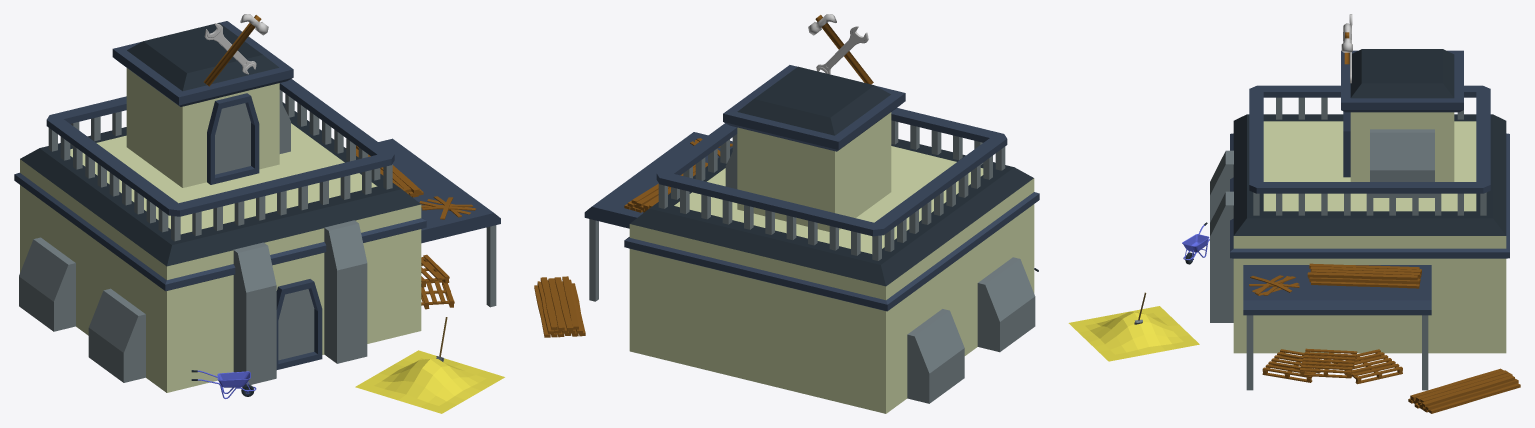
File: builder_house 1.fbx
3 views of the same model, side by side, from view 1: azimuth 30°, elevation 25°; view 2: azimuth 150°, elevation 25°; view 3: azimuth 270°, elevation 25° (orthographic). The views are drawn at different scales.
Visible parts, largest first — view 1: builder_house, sand, planks.001, palette, wheelbarrow; view 2: builder_house, planks.002, planks.001; view 3: builder_house, sand, palette, planks.001, planks.002, wheelbarrow.
Part boxes in pixels (left/top/right/bottom): builder_house: left=14, top=14, right=500, bottom=392; sand: left=355, top=350, right=504, bottom=413; planks.001: left=356, top=145, right=476, bottom=219; palette: left=421, top=254, right=454, bottom=309; wheelbarrow: left=191, top=370, right=256, bottom=398; builder_house: left=584, top=14, right=1039, bottom=413; planks.002: left=534, top=276, right=585, bottom=337; planks.001: left=624, top=138, right=732, bottom=212; builder_house: left=1210, top=14, right=1509, bottom=390; sand: left=1068, top=306, right=1199, bottom=361; palette: left=1262, top=348, right=1402, bottom=384; planks.001: left=1249, top=263, right=1421, bottom=295; planks.002: left=1408, top=368, right=1520, bottom=413; wheelbarrow: left=1182, top=222, right=1209, bottom=264.
Size of the model in its own units: 1357 by 948 by 1394.
